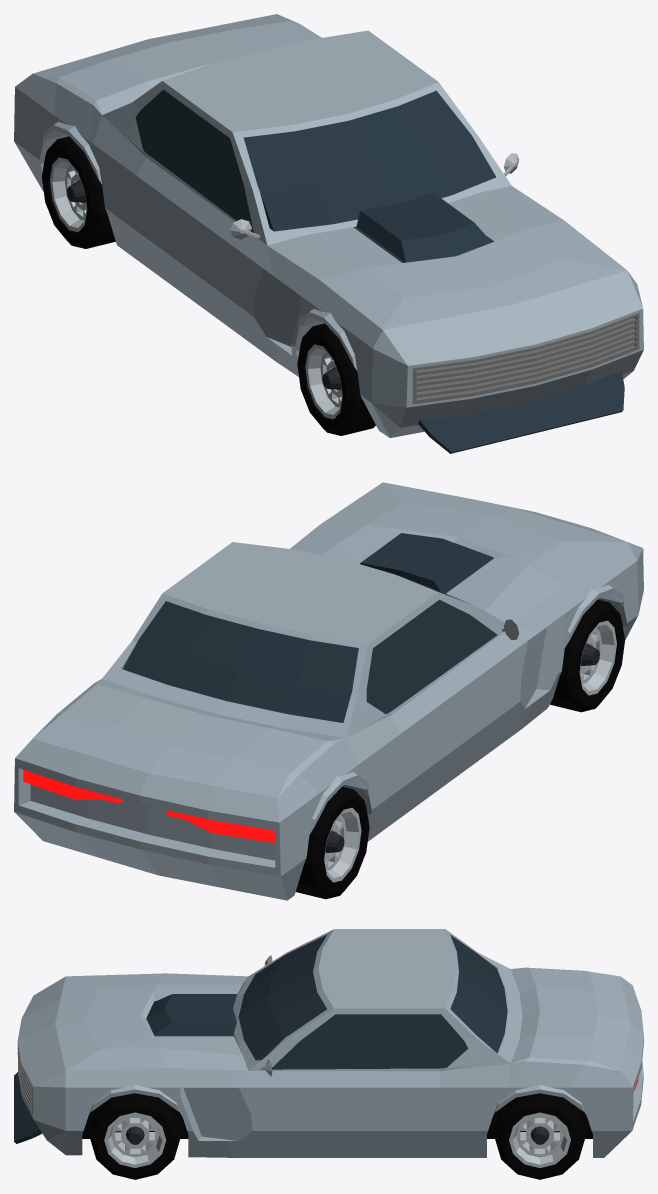
File: car-showroom.glb
3 views of the same model, one above another, from view 1: azimuth 30°, elevation 25°; view 2: azimuth 150°, elevation 25°; view 3: azimuth 270°, elevation 25° (orthographic). The views are drawn at different scales.
Visible parts, largest first — view 1: Body, Glass, Dark, Grill, Cube.012, Cube.015, Cube.011, Cube.016, Cube.006; view 2: Body, Glass, Dark, Cube.012, Cube.015, Cube.020, Cube.011, Cube.016; view 3: Body, Glass, Dark, Cube.008, Cube.019, Cube.009, Cube.018, Cube.007, Grill.
Boxes of the visible parts, x1=… form: Body: x1=14, y1=14, x2=643, y2=437; Glass: x1=135, y1=89, x2=495, y2=232; Dark: x1=354, y1=193, x2=624, y2=453; Grill: x1=412, y1=313, x2=639, y2=404; Cube.012: x1=297, y1=323, x2=375, y2=435; Cube.015: x1=42, y1=136, x2=115, y2=248; Cube.011: x1=305, y1=344, x2=342, y2=419; Cube.016: x1=50, y1=157, x2=87, y2=232; Cube.006: x1=230, y1=153, x2=519, y2=239; Body: x1=14, y1=482, x2=643, y2=900; Glass: x1=123, y1=577, x2=497, y2=722; Dark: x1=360, y1=533, x2=493, y2=593; Cube.012: x1=550, y1=599, x2=624, y2=712; Cube.015: x1=295, y1=786, x2=369, y2=899; Cube.020: x1=23, y1=769, x2=275, y2=842; Cube.011: x1=579, y1=620, x2=616, y2=695; Cube.016: x1=324, y1=807, x2=361, y2=882; Body: x1=17, y1=929, x2=643, y2=1157; Glass: x1=238, y1=935, x2=507, y2=1069; Dark: x1=14, y1=994, x2=237, y2=1143; Cube.008: x1=90, y1=1093, x2=180, y2=1179; Cube.019: x1=495, y1=1093, x2=584, y2=1179; Cube.009: x1=104, y1=1112, x2=166, y2=1167; Cube.018: x1=509, y1=1112, x2=570, y2=1167; Cube.007: x1=82, y1=1109, x2=592, y2=1138; Grill: x1=17, y1=1044, x2=32, y2=1115.
Size of the model in its own units: 5.51 by 3.65 by 13.11.
